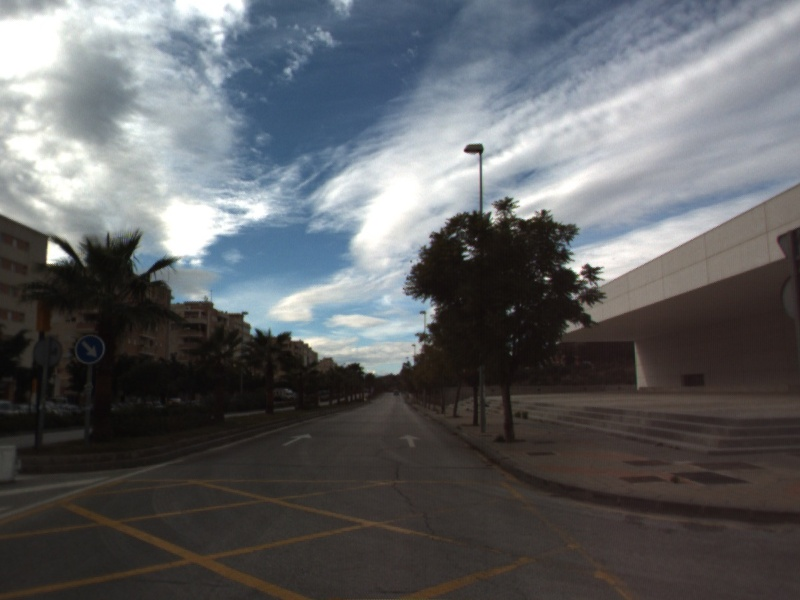STRAIGHT: (280, 431, 314, 448), (397, 432, 423, 449)
